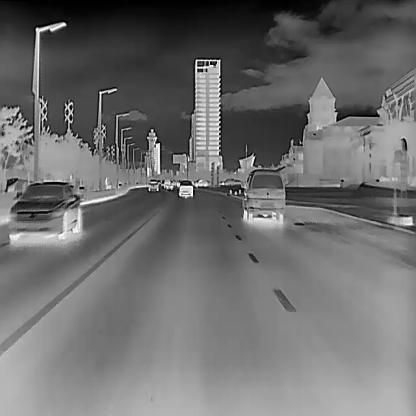car: (8, 181, 81, 241), (241, 167, 285, 221), (177, 178, 192, 197), (192, 176, 208, 188), (147, 178, 158, 192)
